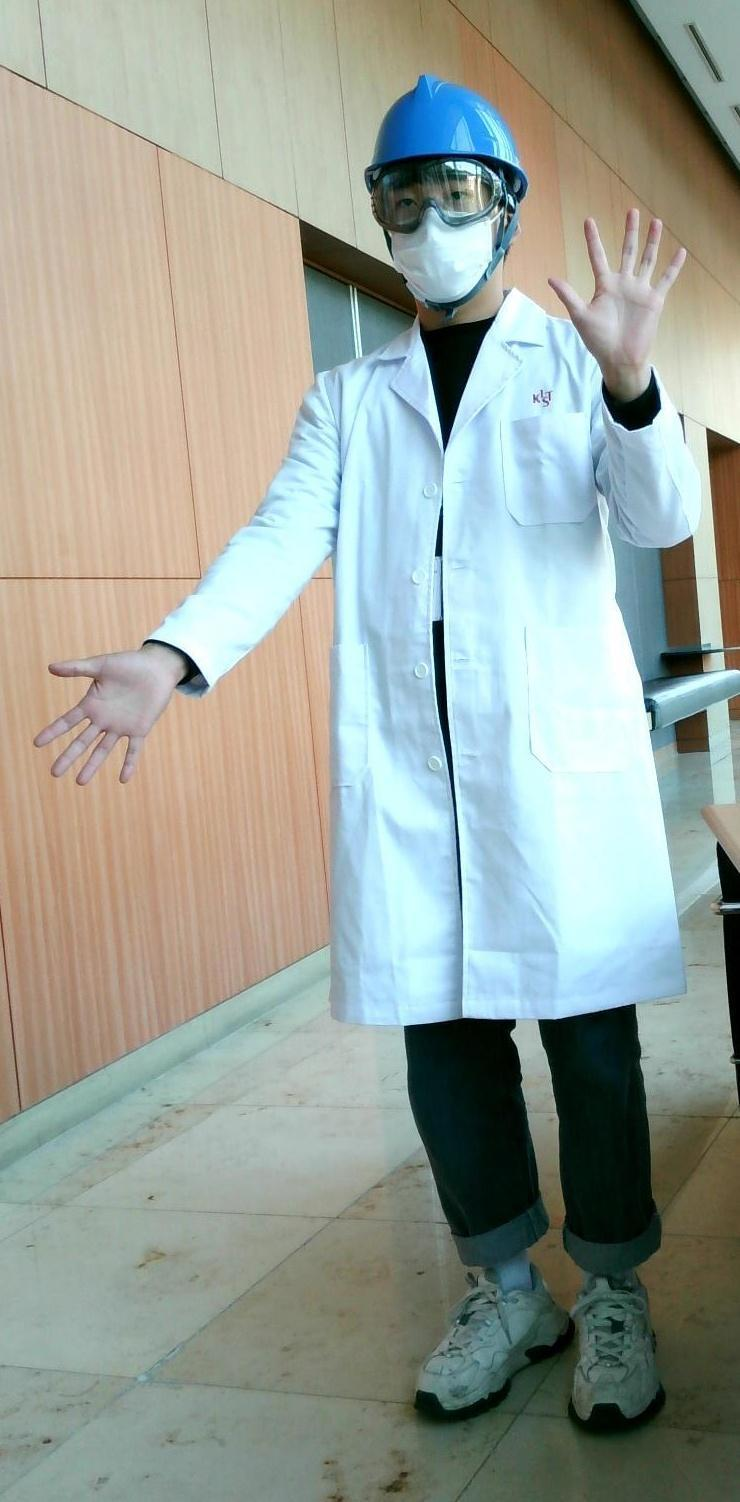lab_coat: (271, 374, 681, 1018)
